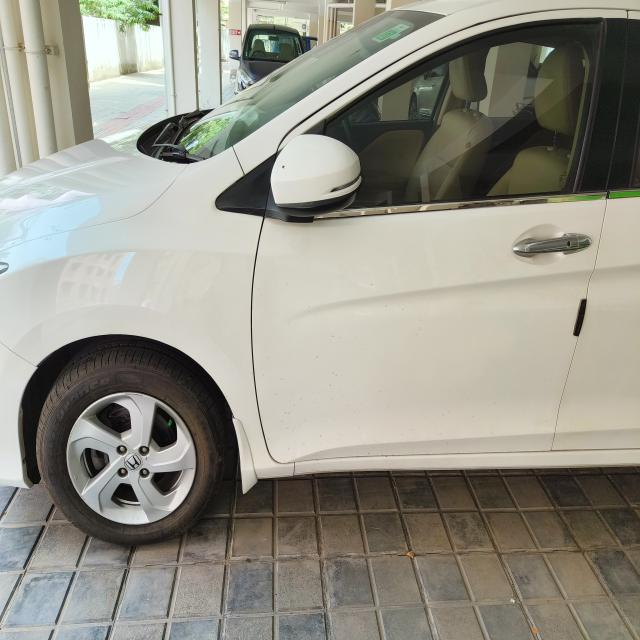scratch: (265, 388, 326, 446)
